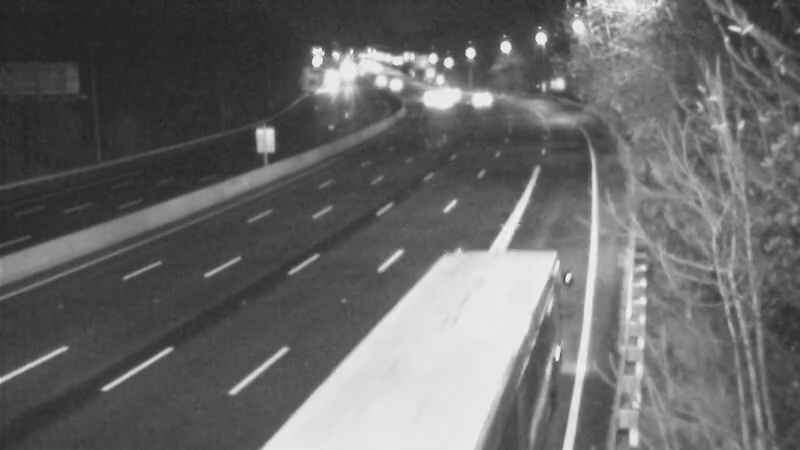vehicle: (379, 296, 489, 406), (367, 56, 417, 106), (344, 52, 394, 102), (431, 66, 481, 116), (403, 72, 453, 122), (426, 75, 476, 125), (452, 74, 502, 124)
